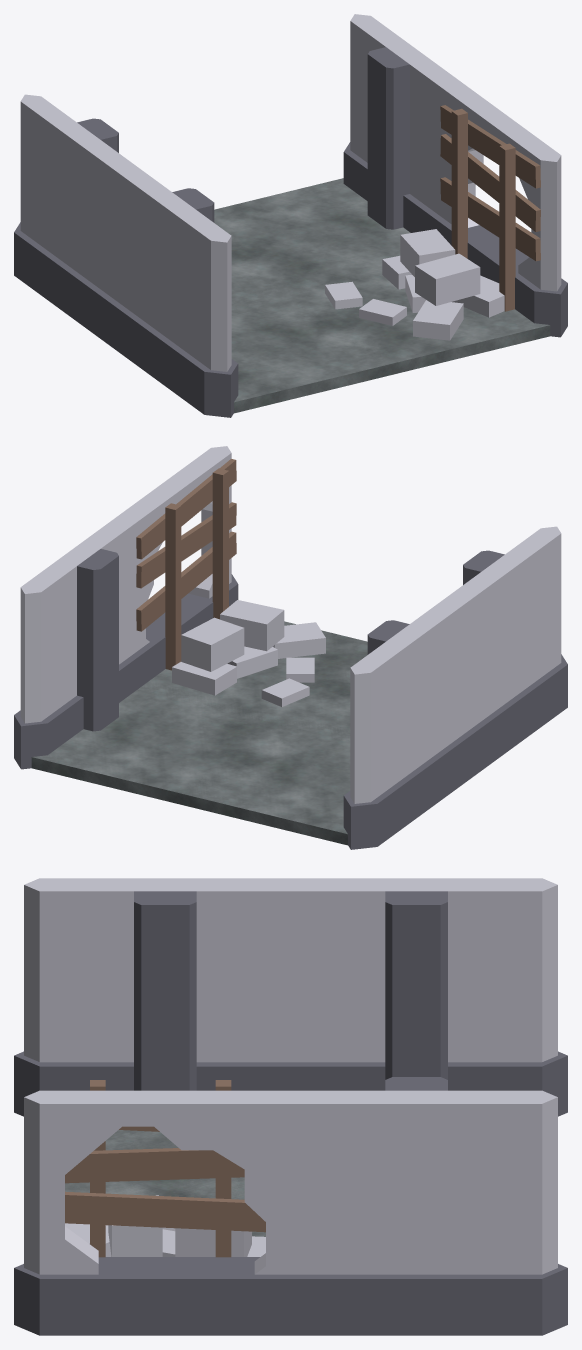
The model's file is hallway_06.fbx.
3 views of the same model, one above another, from view 1: azimuth 30°, elevation 25°; view 2: azimuth 150°, elevation 25°; view 3: azimuth 270°, elevation 25° (orthographic). The views are drawn at different scales.
Visible parts, largest first — view 1: floor_01_11, wall_02_13, wall_04_25, wall_02_12, wall_02_14, debris_bricks_26; view 2: floor_01_11, wall_02_12, wall_02_14, wall_02_13, wall_04_25, debris_bricks_26; view 3: wall_02_14, wall_04_25, wall_02_13, wall_02_12, debris_bricks_26, floor_01_11.
Boxes of the visible parts, box(x1,y1,x2,y2) form: floor_01_11: box(214, 178, 550, 413); wall_02_13: box(109, 165, 238, 417); wall_04_25: box(439, 84, 567, 337); wall_02_12: box(14, 94, 135, 344); wall_02_14: box(343, 14, 465, 232); debris_bricks_26: box(325, 229, 504, 340); floor_01_11: box(31, 621, 367, 845); wall_02_12: box(343, 596, 472, 849); wall_02_14: box(14, 516, 142, 769); wall_02_13: box(446, 526, 567, 776); wall_04_25: box(116, 446, 238, 685); debris_bricks_26: box(172, 600, 325, 706); wall_02_14: box(276, 1077, 567, 1335); wall_04_25: box(14, 1080, 304, 1335); wall_02_13: box(14, 878, 305, 1116); wall_02_12: box(276, 878, 567, 1116); debris_bricks_26: box(65, 1195, 265, 1256); floor_01_11: box(65, 1130, 265, 1236).
Size of the model in its own units: 22.05 by 10 by 22.05.
